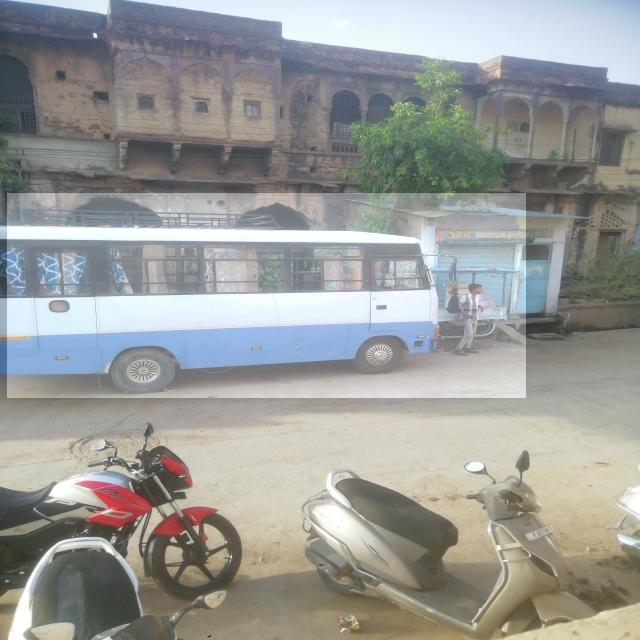Bus: (7, 193, 526, 398)
